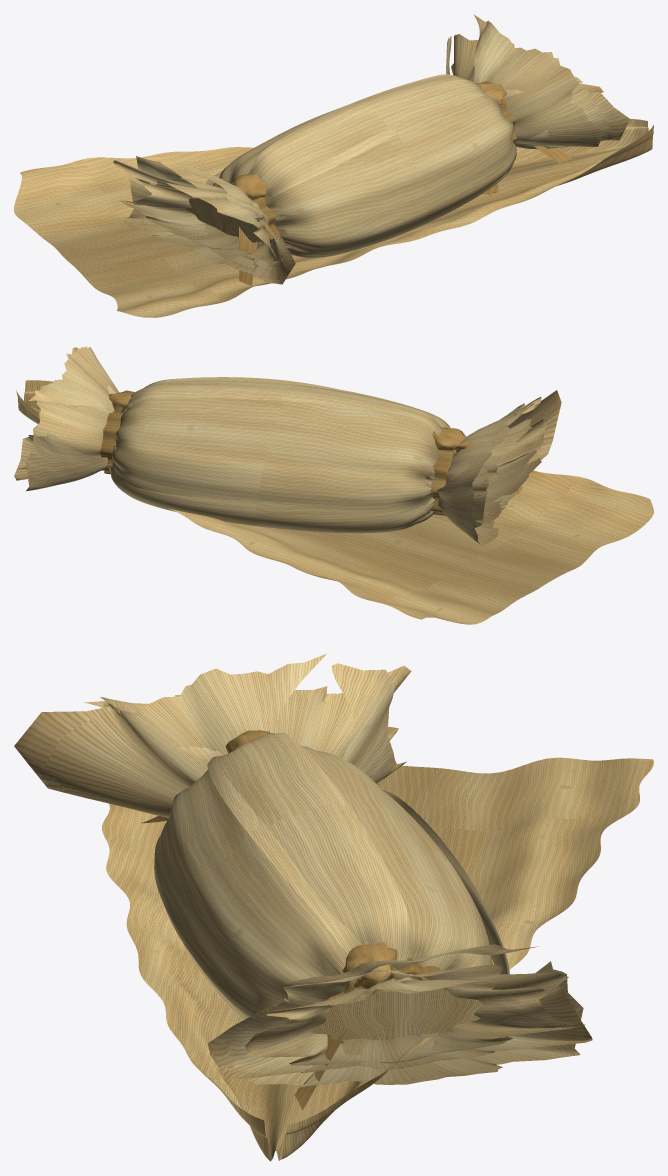
File: tamal_a.glb
The picture shows the model from 3 angles, top to bottom: view 1: azimuth 30°, elevation 25°; view 2: azimuth 150°, elevation 25°; view 3: azimuth 270°, elevation 25°; orthographic projection. The views are drawn at different scales.
Visible parts, largest first — view 1: tamal_a; view 2: tamal_a; view 3: tamal_a.
Part boxes in pixels (bbox=[...]): tamal_a: bbox=[14, 14, 653, 317]; tamal_a: bbox=[14, 346, 653, 624]; tamal_a: bbox=[14, 653, 653, 1161].
Bounding box in the file's own units: 0.175 × 0.0327 × 0.1095.
Materials: 1 (1 with a texture image).
